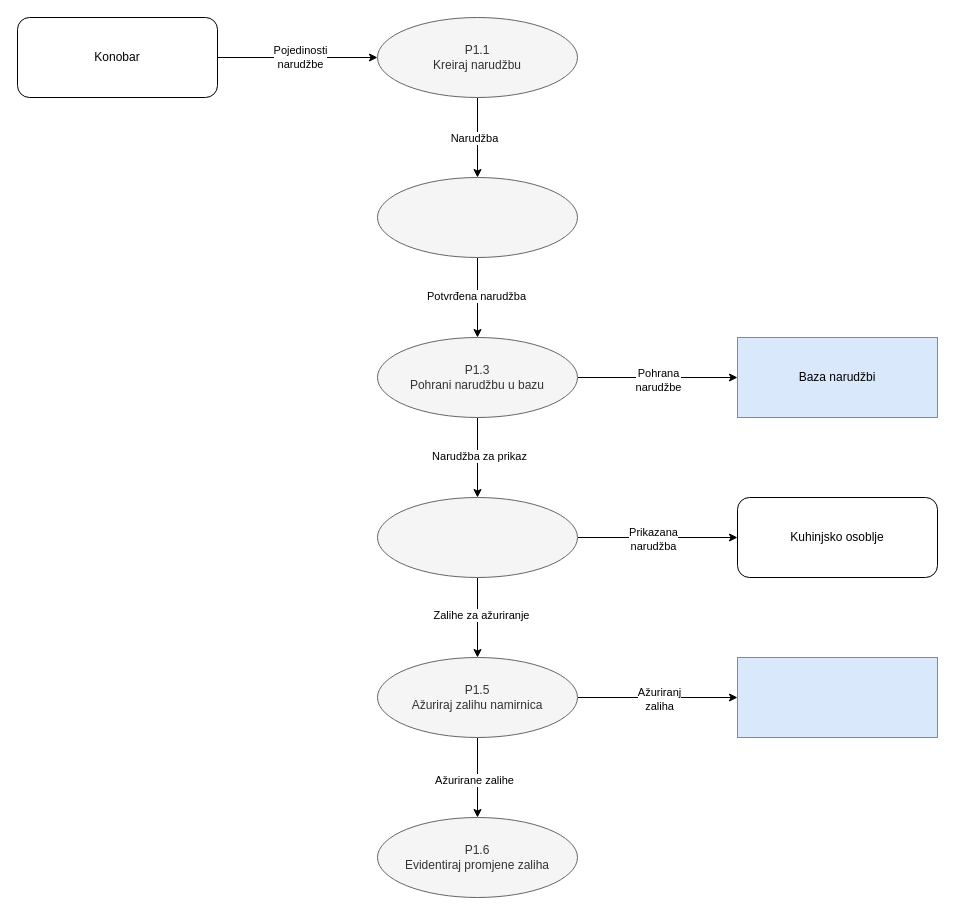
Image size: 955x915. Some labels were removed from this diagram. The shapes that lost their labels are listed below. From the top down, each one's centre as x and y in pixels, then its label:
At point (477, 217): "P1.2 Potvrdi narudžbu".
At point (477, 537): "P1.4 Prikaži narudžbu kuhinji".
At point (837, 697): "Baza zaliha".
